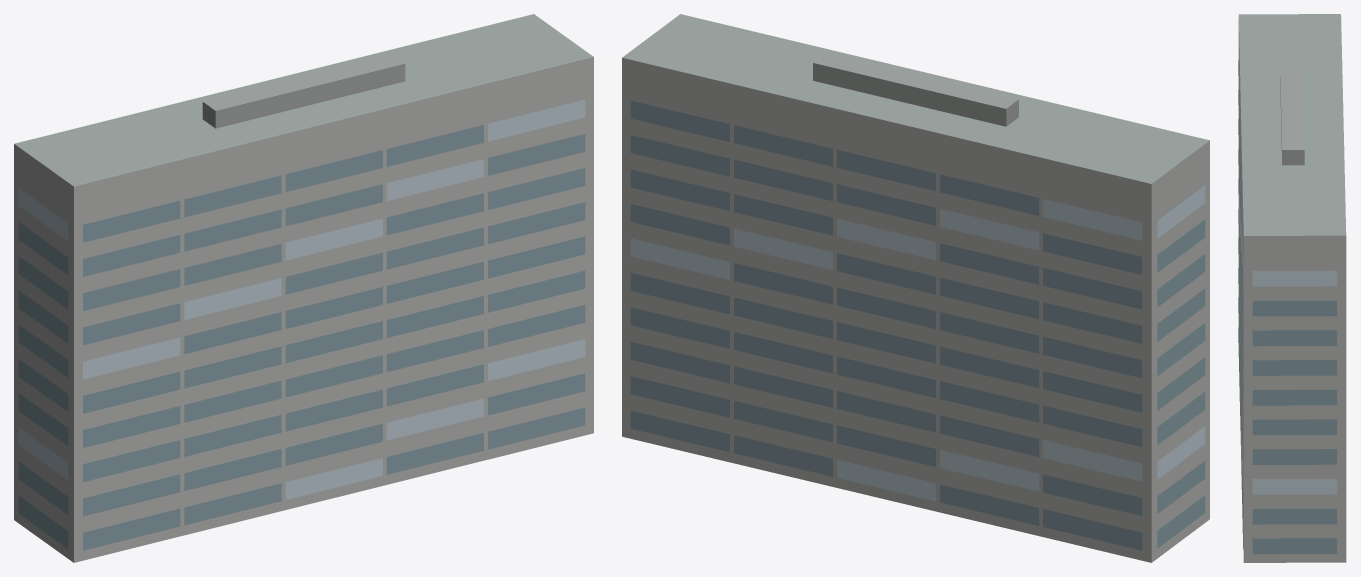
File: fallback-dmc-parkview-xi-completion-221.glb
3 views of the same model, side by side, from view 1: azimuth 30°, elevation 25°; view 2: azimuth 150°, elevation 25°; view 3: azimuth 270°, elevation 25° (orthographic). The views are drawn at different scales.
Visible parts, largest first — view 1: fallback-dmc-parkview-xi-completion-221; view 2: fallback-dmc-parkview-xi-completion-221; view 3: fallback-dmc-parkview-xi-completion-221.
Boxes of the visible parts, <box> form: fallback-dmc-parkview-xi-completion-221: <box>14,14,593,562</box>; fallback-dmc-parkview-xi-completion-221: <box>622,14,1209,562</box>; fallback-dmc-parkview-xi-completion-221: <box>1238,14,1346,562</box>.
Size of the model in its own units: 48.77 by 35 by 10.04.
